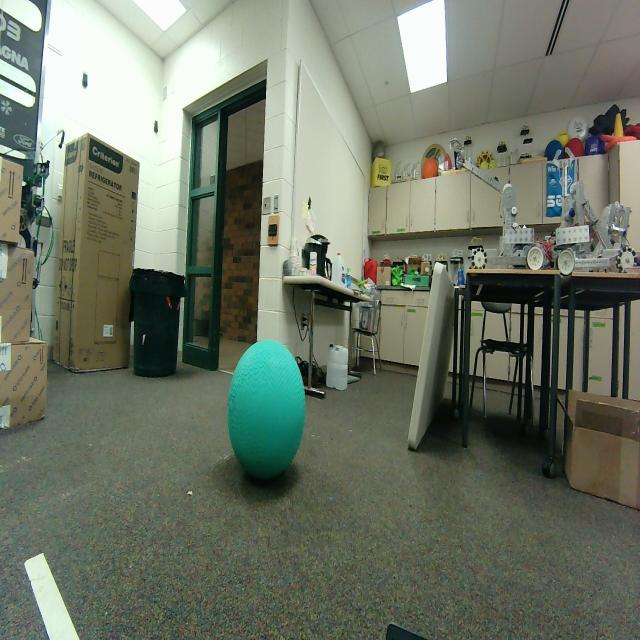algae: (227, 340, 305, 480)
